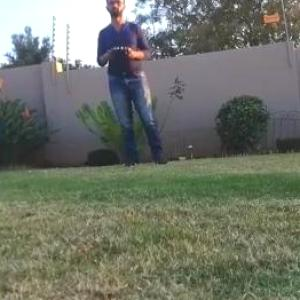follow: (92, 0, 175, 173)
